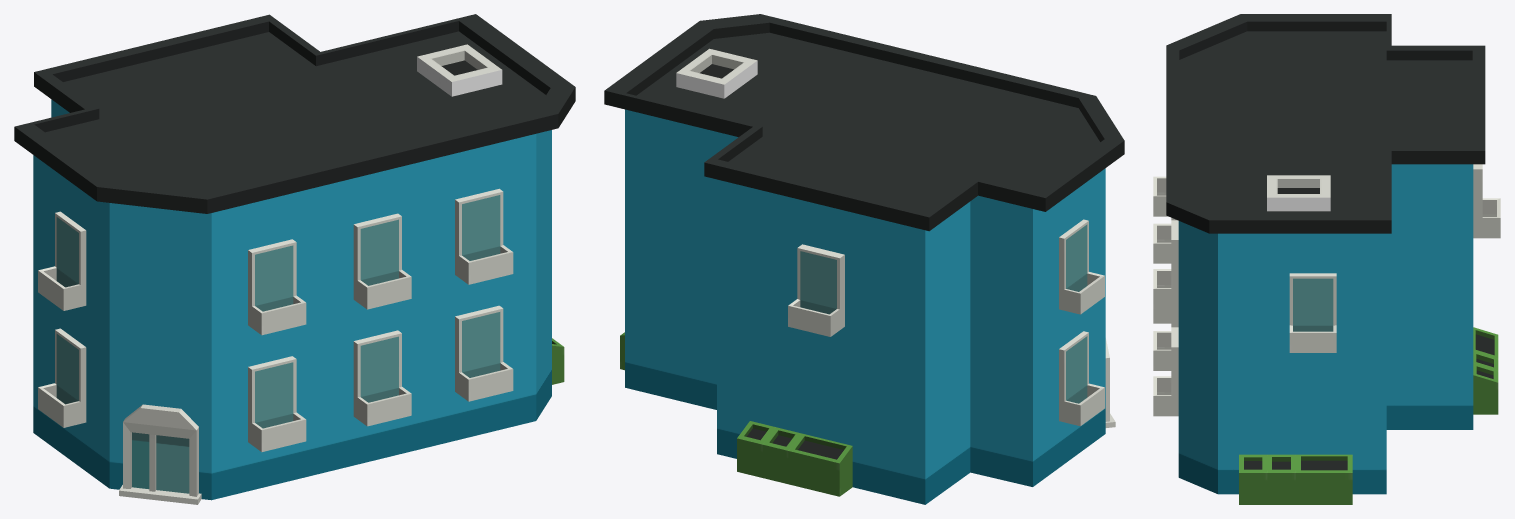
The model's file is Corner House 2.fbx.
3 renders of one model, left to right at view 1: azimuth 30°, elevation 25°; view 2: azimuth 150°, elevation 25°; view 3: azimuth 270°, elevation 25°, orthographic. The views are drawn at different scales.
Parts seen in each view (by area): view 1: Corner House 2; view 2: Corner House 2; view 3: Corner House 2.
Part boxes in pixels (x1,y1,x2,y2): Corner House 2: (14, 14, 575, 504); Corner House 2: (604, 14, 1124, 504); Corner House 2: (1153, 14, 1500, 504).
Size of the model in its own units: 5.88 by 3.72 by 4.08.
